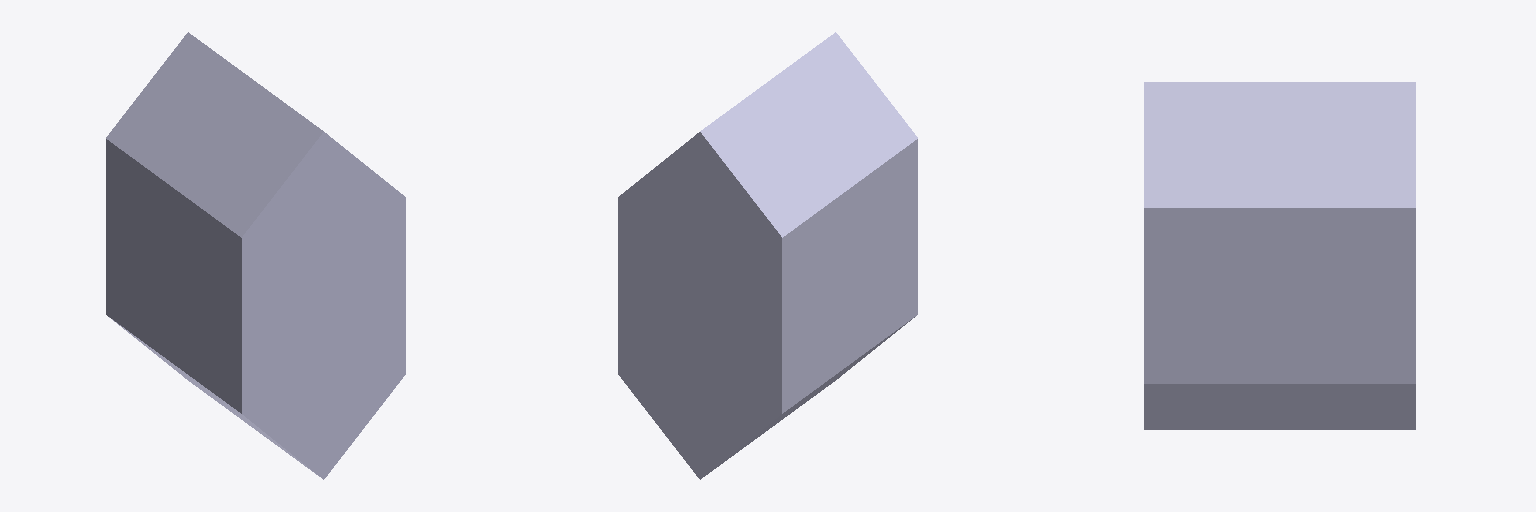
Rendered from hiddenite.obj.
3 views of the same model, side by side, from view 1: azimuth 30°, elevation 25°; view 2: azimuth 150°, elevation 25°; view 3: azimuth 270°, elevation 25° (orthographic).
Size of the model in its own units: 1.4 by 2.83 by 2.